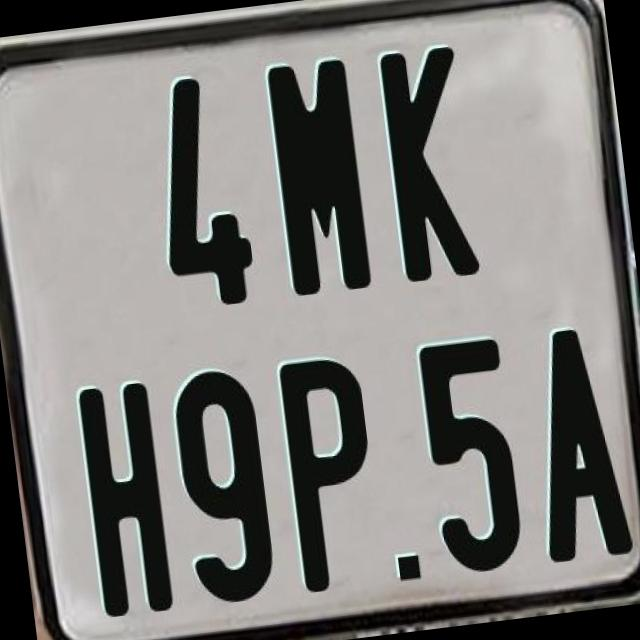4: (144, 72, 262, 310)
5: (412, 332, 526, 580)
9: (168, 365, 280, 613)
A: (519, 324, 633, 570)
H: (76, 378, 174, 619)
K: (378, 45, 481, 282)
M: (264, 53, 378, 294)
P: (274, 352, 386, 598)
